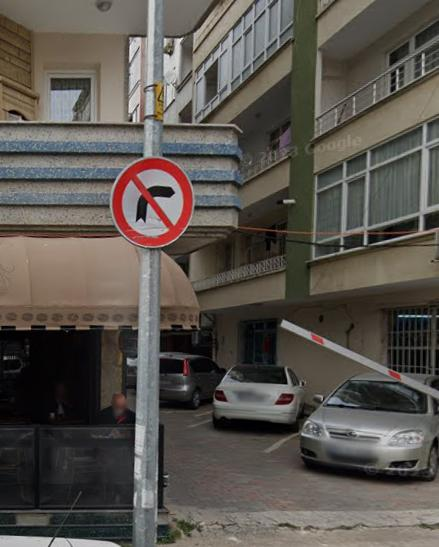rightturnsareforbidden: (115, 160, 191, 245)
